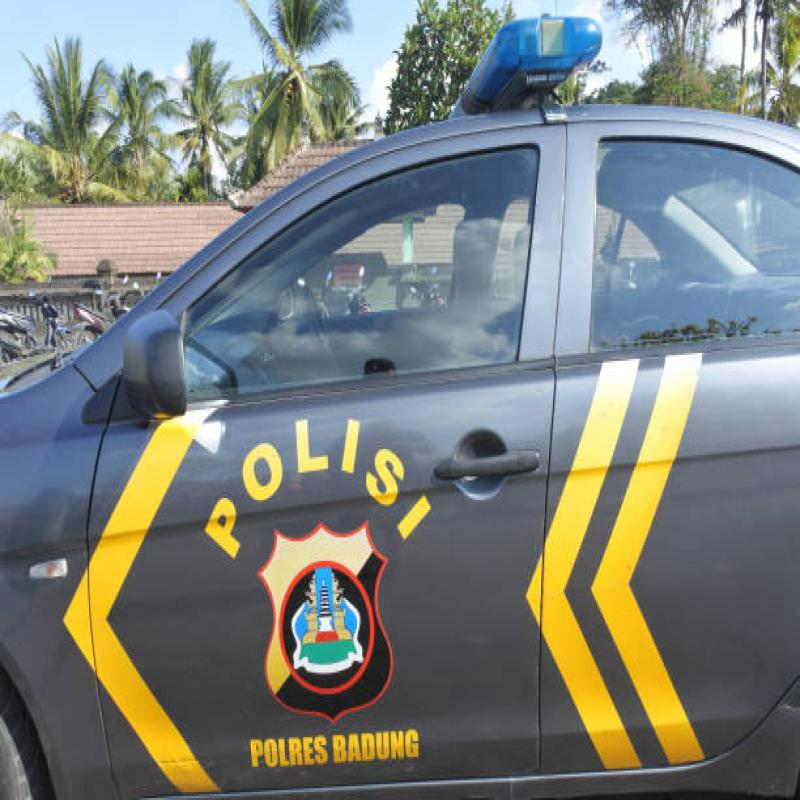AmbulanceSiren: (440, 0, 604, 136)
